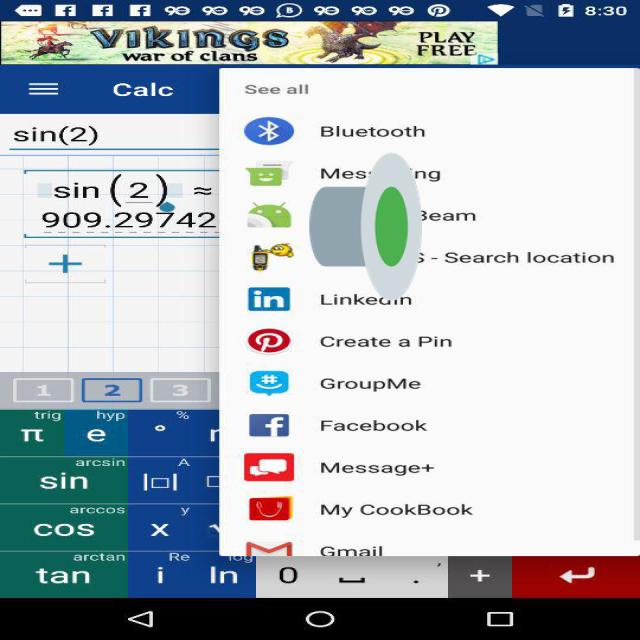social proof: (309, 90, 422, 363)
